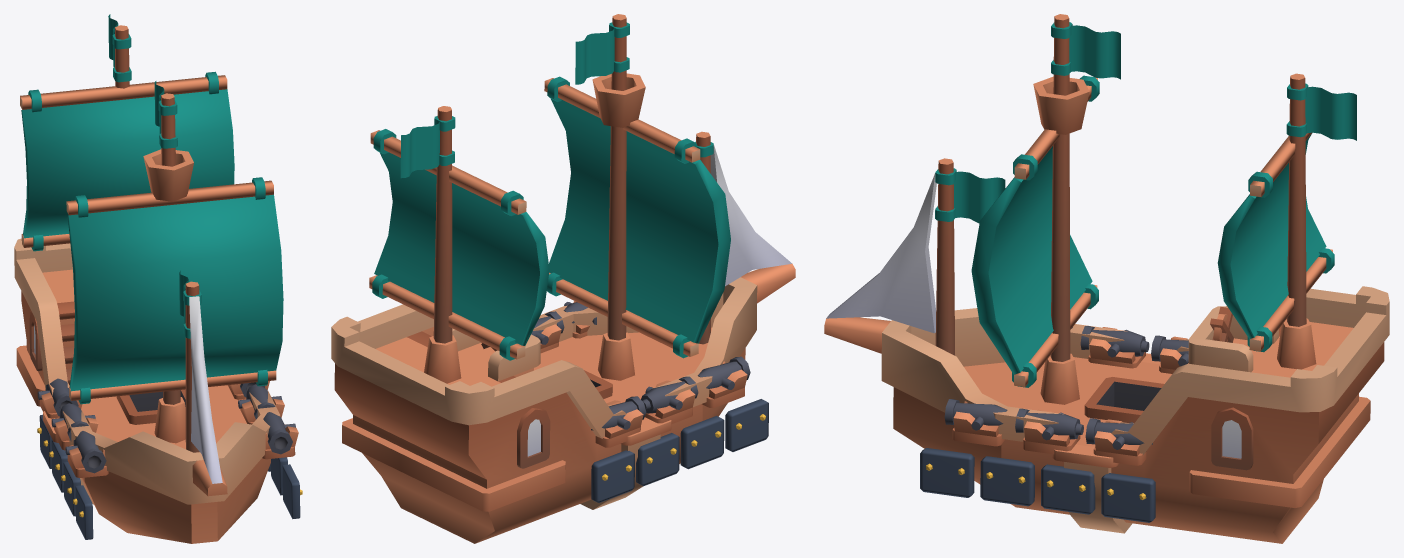
File: ship-warship.glb
3 renders of one model, left to right at view 1: azimuth 30°, elevation 25°; view 2: azimuth 150°, elevation 25°; view 3: azimuth 270°, elevation 25°, orthographic. The views are drawn at different scales.
Parts seen in each view (by area): view 1: sail-a.011, Hull + rigging.005, sail-b.005, Cannon slot -1 0.005, Cannon slot 1 0.005, Armor • removable plate.020, Armor • removable plate.016, flag-b.008, Cannon slot -1 2.002, flag-c.008, Cannon slot -1 1.003, Cannon slot 1 1.003 (+5 smaller); view 2: Hull + rigging.005, sail-a.011, sail-b.005, flag-b.008, flag-c.008, Armor • removable plate.017, Armor • removable plate.016, Armor • removable plate.019, Armor • removable plate.018, Cannon slot -1 1.003, Cannon slot -1 0.005, Cannon slot -1 2.002; view 3: Hull + rigging.005, sail-a.011, sail-b.005, flag-c.008, flag-b.008, flag-a.008, Armor • removable plate.021, Armor • removable plate.020, Armor • removable plate.023, Armor • removable plate.022, Cannon slot 1 1.003, Cannon slot 1 0.005 (+3 smaller).
Boxes of the visible parts, x1,y1,x2,y2 form: sail-a.011: [66, 177, 283, 404]; Hull + rigging.005: [14, 25, 280, 543]; sail-b.005: [20, 71, 234, 251]; Cannon slot -1 0.005: [65, 431, 108, 477]; Cannon slot 1 0.005: [262, 412, 295, 459]; Armor • removable plate.020: [282, 464, 300, 519]; Armor • removable plate.016: [75, 485, 93, 539]; flag-b.008: [154, 81, 177, 148]; Cannon slot -1 2.002: [37, 378, 78, 418]; flag-c.008: [108, 14, 131, 82]; Cannon slot -1 1.003: [51, 403, 95, 450]; Cannon slot 1 1.003: [238, 384, 282, 424]; Hull + rigging.005: [331, 14, 795, 543]; sail-a.011: [544, 76, 730, 358]; sail-b.005: [369, 129, 549, 360]; flag-b.008: [575, 22, 629, 84]; flag-c.008: [400, 116, 455, 178]; Armor • removable plate.017: [680, 416, 724, 469]; Armor • removable plate.016: [725, 399, 768, 451]; Armor • removable plate.019: [591, 450, 634, 502]; Armor • removable plate.018: [636, 433, 679, 486]; Cannon slot -1 1.003: [641, 376, 698, 424]; Cannon slot -1 0.005: [697, 356, 750, 407]; Cannon slot -1 2.002: [591, 396, 646, 447]; Hull + rigging.005: [824, 14, 1389, 543]; sail-a.011: [971, 75, 1099, 387]; sail-b.005: [1217, 132, 1334, 352]; flag-c.008: [1286, 83, 1356, 140]; flag-b.008: [1051, 22, 1120, 79]; flag-a.008: [935, 168, 1005, 223]; Armor • removable plate.021: [980, 456, 1034, 506]; Armor • removable plate.020: [920, 448, 974, 497]; Armor • removable plate.023: [1101, 473, 1155, 522]; Armor • removable plate.022: [1041, 464, 1095, 514]; Cannon slot 1 1.003: [1015, 408, 1083, 454]; Cannon slot 1 0.005: [944, 399, 1007, 446].
Bounding box in the file's own units: 6.61 × 9.98 × 10.68.
5 materials, 2 textured.
